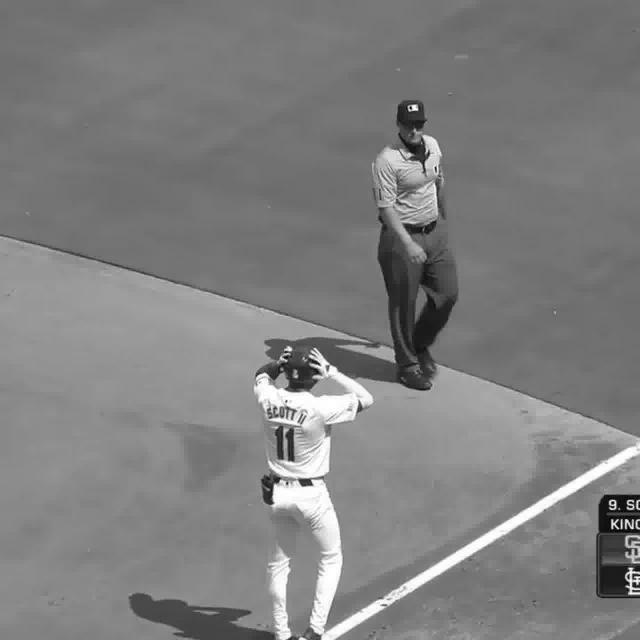shoe: (398, 368, 429, 390), (418, 349, 438, 380)
